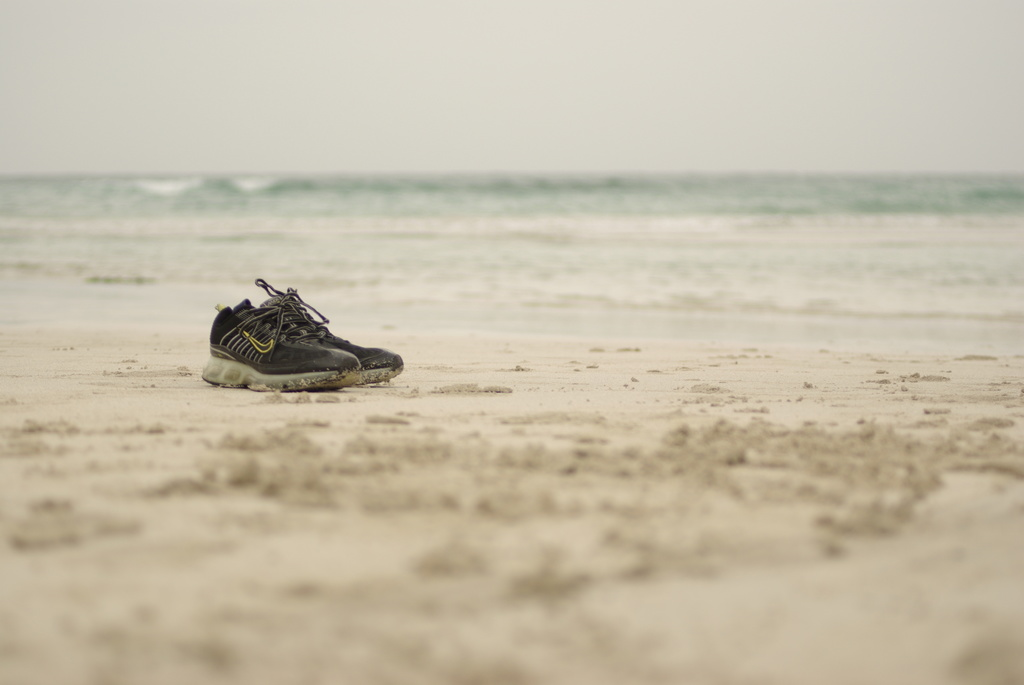Footwear: (200, 276, 406, 391)
